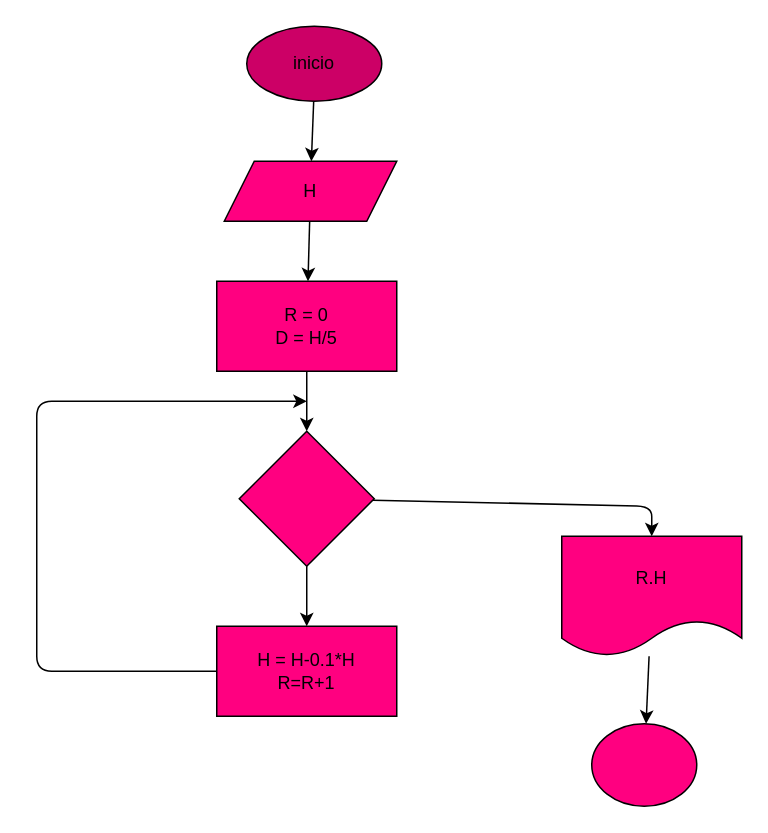
This 768x833 diagram has some shape labels left out. Each missing label, with the centre of its shape:
"D <= H" goes at (x=306, y=498).
"FIN" goes at (x=643, y=764).
